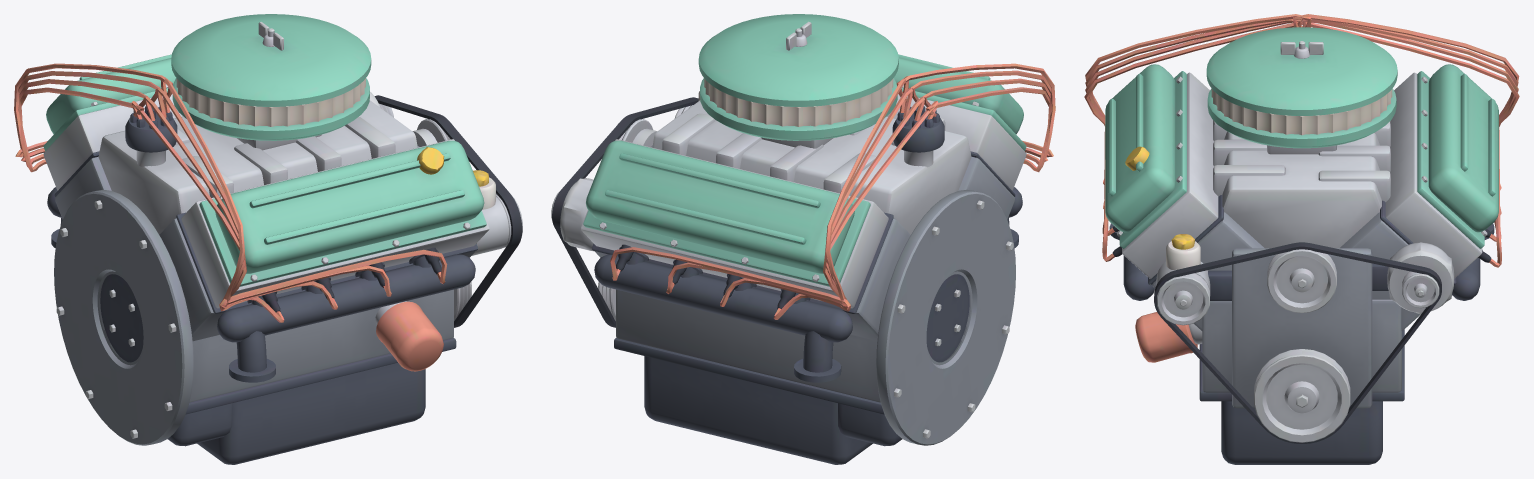
File: v8-engine.glb
3 renders of one model, left to right at view 1: azimuth 30°, elevation 25°; view 2: azimuth 150°, elevation 25°; view 3: azimuth 270°, elevation 25°, orthographic. The views are drawn at different scales.
Visible parts, largest first — view 1: v8-engine_body; view 2: v8-engine_body; view 3: v8-engine_body.
Part boxes in pixels (bbox=[...]): v8-engine_body: bbox=[14, 14, 522, 464]; v8-engine_body: bbox=[551, 14, 1055, 464]; v8-engine_body: bbox=[1084, 14, 1519, 464].
Bounding box in the file's own units: 0.694 × 0.763 × 0.807.
1 material, 1 textured.
